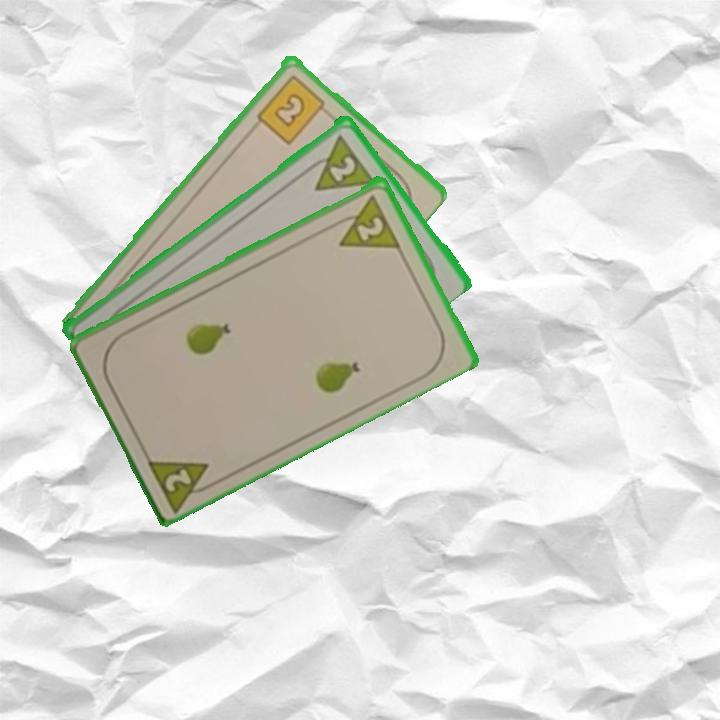2b: (253, 70, 333, 147)
2p: (299, 130, 377, 194), (142, 452, 222, 513), (327, 190, 403, 251)
